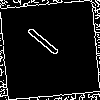I: (24, 24, 69, 65)
